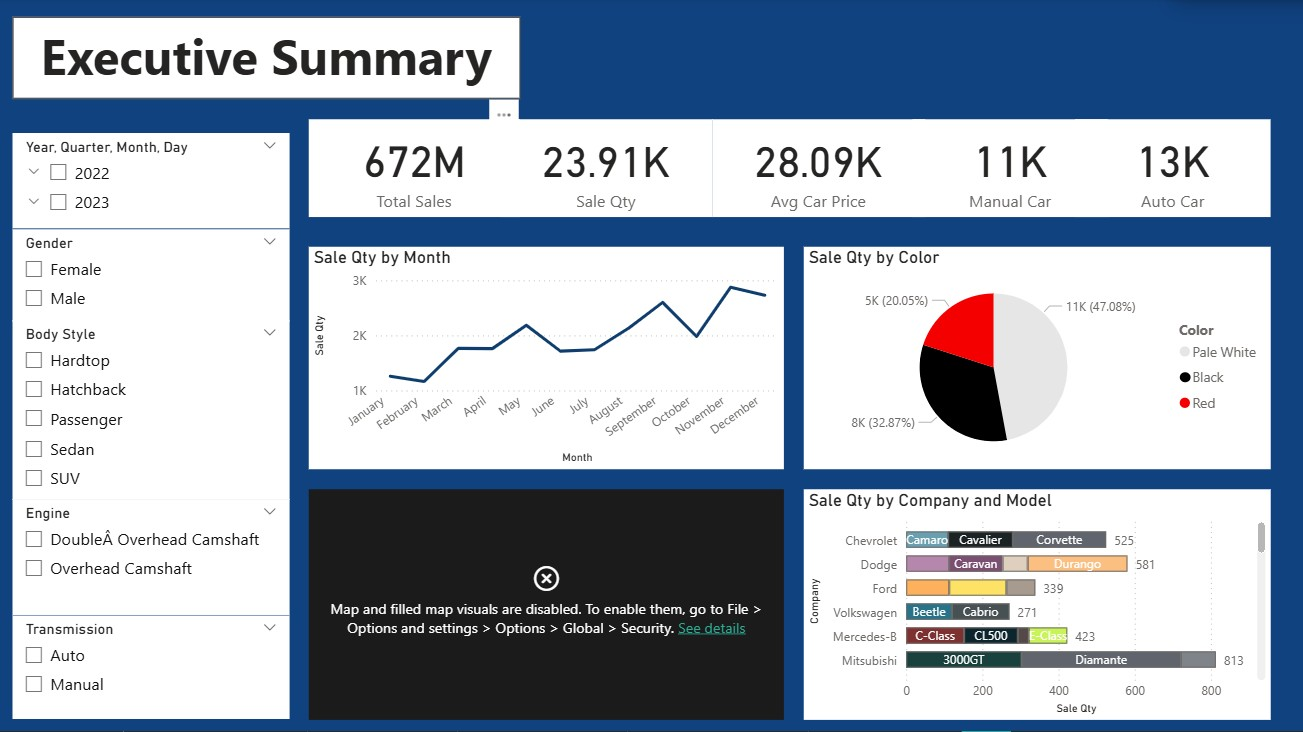

What the dashboard file says about the page in this screenshot:
{"tool":"powerbi","page":{"name":"Executive Summary","canvas":[1280,720],"ordinal":0},"visuals":[{"type":"card","fields":{"Values":["car sales.Sale Qty"]},"box":[491.3,119.4,208.6,96.1],"z":0},{"type":"card","fields":{"Values":["car sales.Auto Car"]},"box":[1055.2,119.4,192.1,96.1],"z":1000},{"type":"card","fields":{"Values":["car sales.Manual Car"]},"box":[896.1,119.4,192.1,96.1],"z":2000},{"type":"card","fields":{"Values":["car sales.Avg Car Price"]},"box":[699.8,119.4,208.6,96.1],"z":3000},{"type":"card","fields":{"Values":["car sales.Total Sales"]},"box":[303.3,119.4,207.2,96.1],"z":4000},{"type":"slicer","fields":{"Values":["car sales.Date.Variation.Date Hierarchy.Year","car sales.Date.Variation.Date Hierarchy.Quarter","car sales.Date.Variation.Date Hierarchy.Month","car sales.Date.Variation.Date Hierarchy.Day"]},"box":[12.3,133.1,271.7,93.3],"z":5000},{"type":"lineChart","fields":{"Category":["car sales.Date.Variation.Date Hierarchy.Month"],"Y":["car sales.Sale Qty"]},"box":[303.3,244.3,466.6,218.2],"z":6000},{"type":"map","fields":{"Category":["car sales.Dealer_Region"],"Y":["car sales.Total Sales"]},"box":[303.3,481.6,466.6,226.4],"z":7000},{"type":"slicer","fields":{"Values":["car sales.Gender"]},"box":[12.3,226.4,271.7,90.6],"z":8000},{"type":"slicer","fields":{"Values":["car sales.Body Style"]},"box":[12.3,317,271.7,175.6],"z":9000},{"type":"slicer","fields":{"Values":["car sales.Engine"]},"box":[12.3,492.6,271.7,113.9],"z":10000},{"type":"slicer","fields":{"Values":["car sales.Transmission"]},"box":[12.3,606.5,271.7,101.5],"z":11000},{"type":"textbox","box":[12.3,17.8,498.1,81],"z":12000},{"type":"barChart","fields":{"Category":["car sales.Company"],"Y":["car sales.Sale Qty"],"Series":["car sales.Model"]},"box":[789,481.6,458.3,226.4],"z":13000},{"type":"pieChart","fields":{"Category":["car sales.Color"],"Y":["car sales.Sale Qty"]},"box":[789,244.3,458.3,218.2],"z":14000}]}

Visuals, with their boxes on the page's 1280x720 design canvas (x1, y1, x2, y2). These are canvas units, not pixel positions in the 1303x732 screenshot, which may show the page scaled, cropped or inside an application window:
card - car sales.Sale Qty: 491 119 700 216
card - car sales.Auto Car: 1055 119 1247 216
card - car sales.Manual Car: 896 119 1088 216
card - car sales.Avg Car Price: 700 119 908 216
card - car sales.Total Sales: 303 119 510 216
slicer - car sales.Date.Variation.Date Hierarchy.Year x car sales.Date.Variation.Date Hierarchy.Quarter: 12 133 284 226
lineChart - car sales.Date.Variation.Date Hierarchy.Month x car sales.Sale Qty: 303 244 770 462
map - car sales.Dealer_Region x car sales.Total Sales: 303 482 770 708
slicer - car sales.Gender: 12 226 284 317
slicer - car sales.Body Style: 12 317 284 493
slicer - car sales.Engine: 12 493 284 606
slicer - car sales.Transmission: 12 606 284 708
textbox: 12 18 510 99
barChart - car sales.Company x car sales.Sale Qty: 789 482 1247 708
pieChart - car sales.Color x car sales.Sale Qty: 789 244 1247 462
